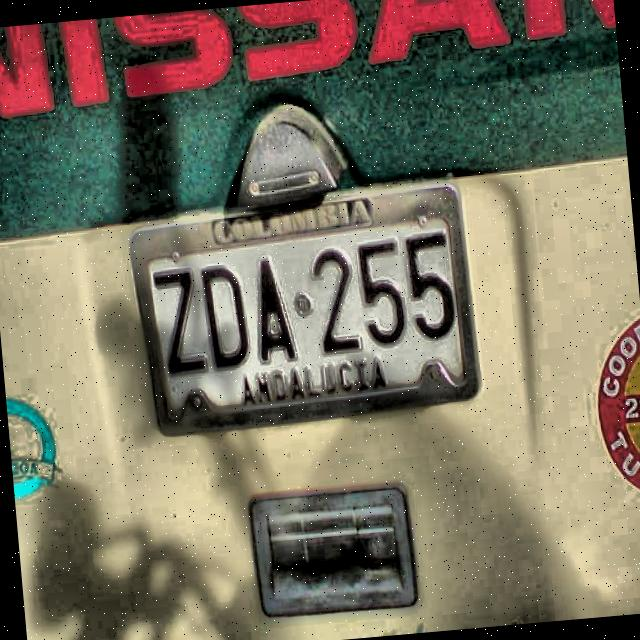2: (308, 243, 366, 356)
5: (400, 228, 458, 344), (354, 237, 409, 351)
A: (247, 253, 300, 369)
D: (196, 259, 255, 378)
Q: (131, 185, 482, 439)
Z: (150, 263, 212, 382)
